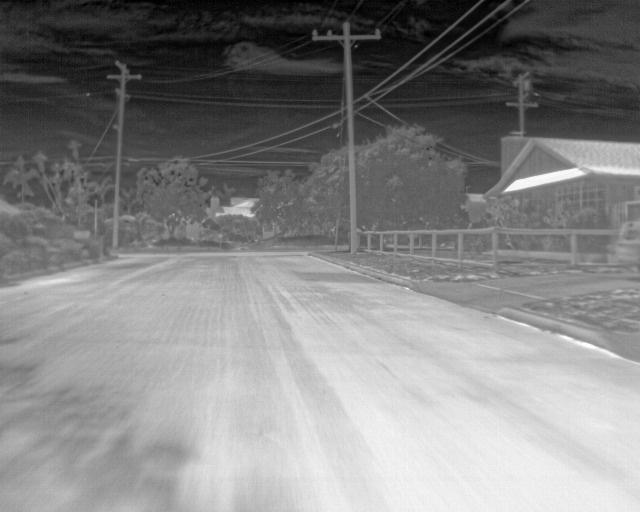car: (613, 219, 639, 271)
